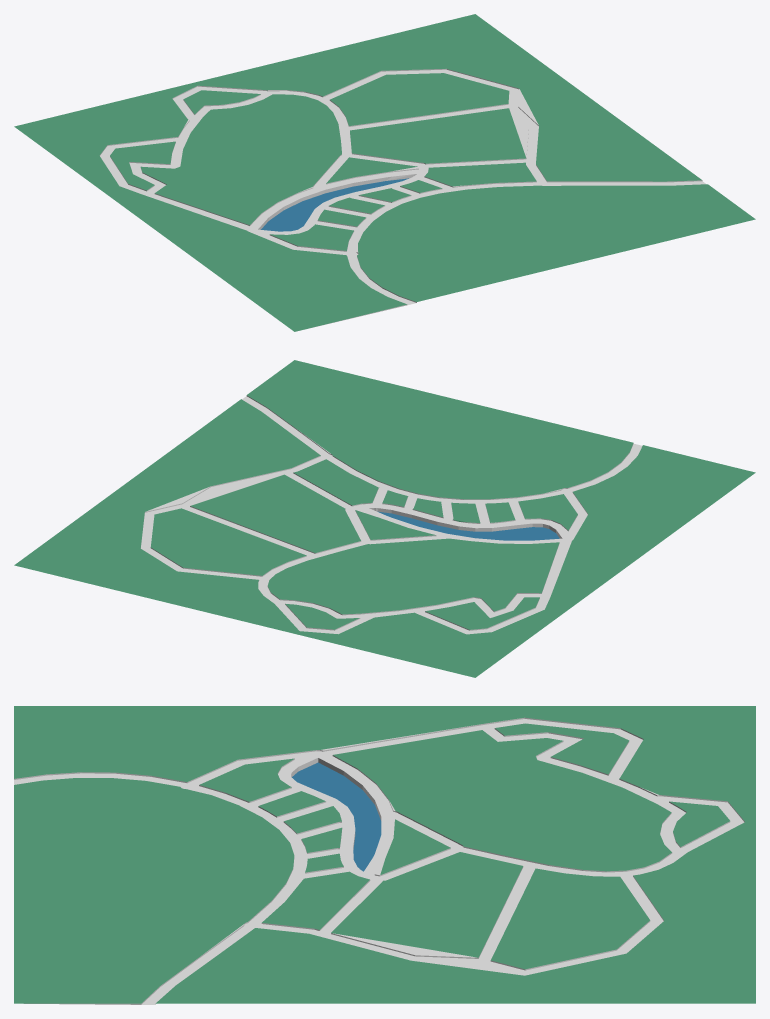
File: MAPPARK.fbx
3 renders of one model, top to bottom at view 1: azimuth 30°, elevation 25°; view 2: azimuth 150°, elevation 25°; view 3: azimuth 270°, elevation 25°, orthographic. The views are drawn at different scales.
Parts seen in each view (by area): view 1: 未命名; view 2: 未命名; view 3: 未命名.
Boxes of the visible parts, x1,y1,x2,y2 form: 未命名: (14,14,755,331); 未命名: (14,360,755,677); 未命名: (14,706,755,1004).
Size of the model in its own units: 17800 by 165 by 18751.
